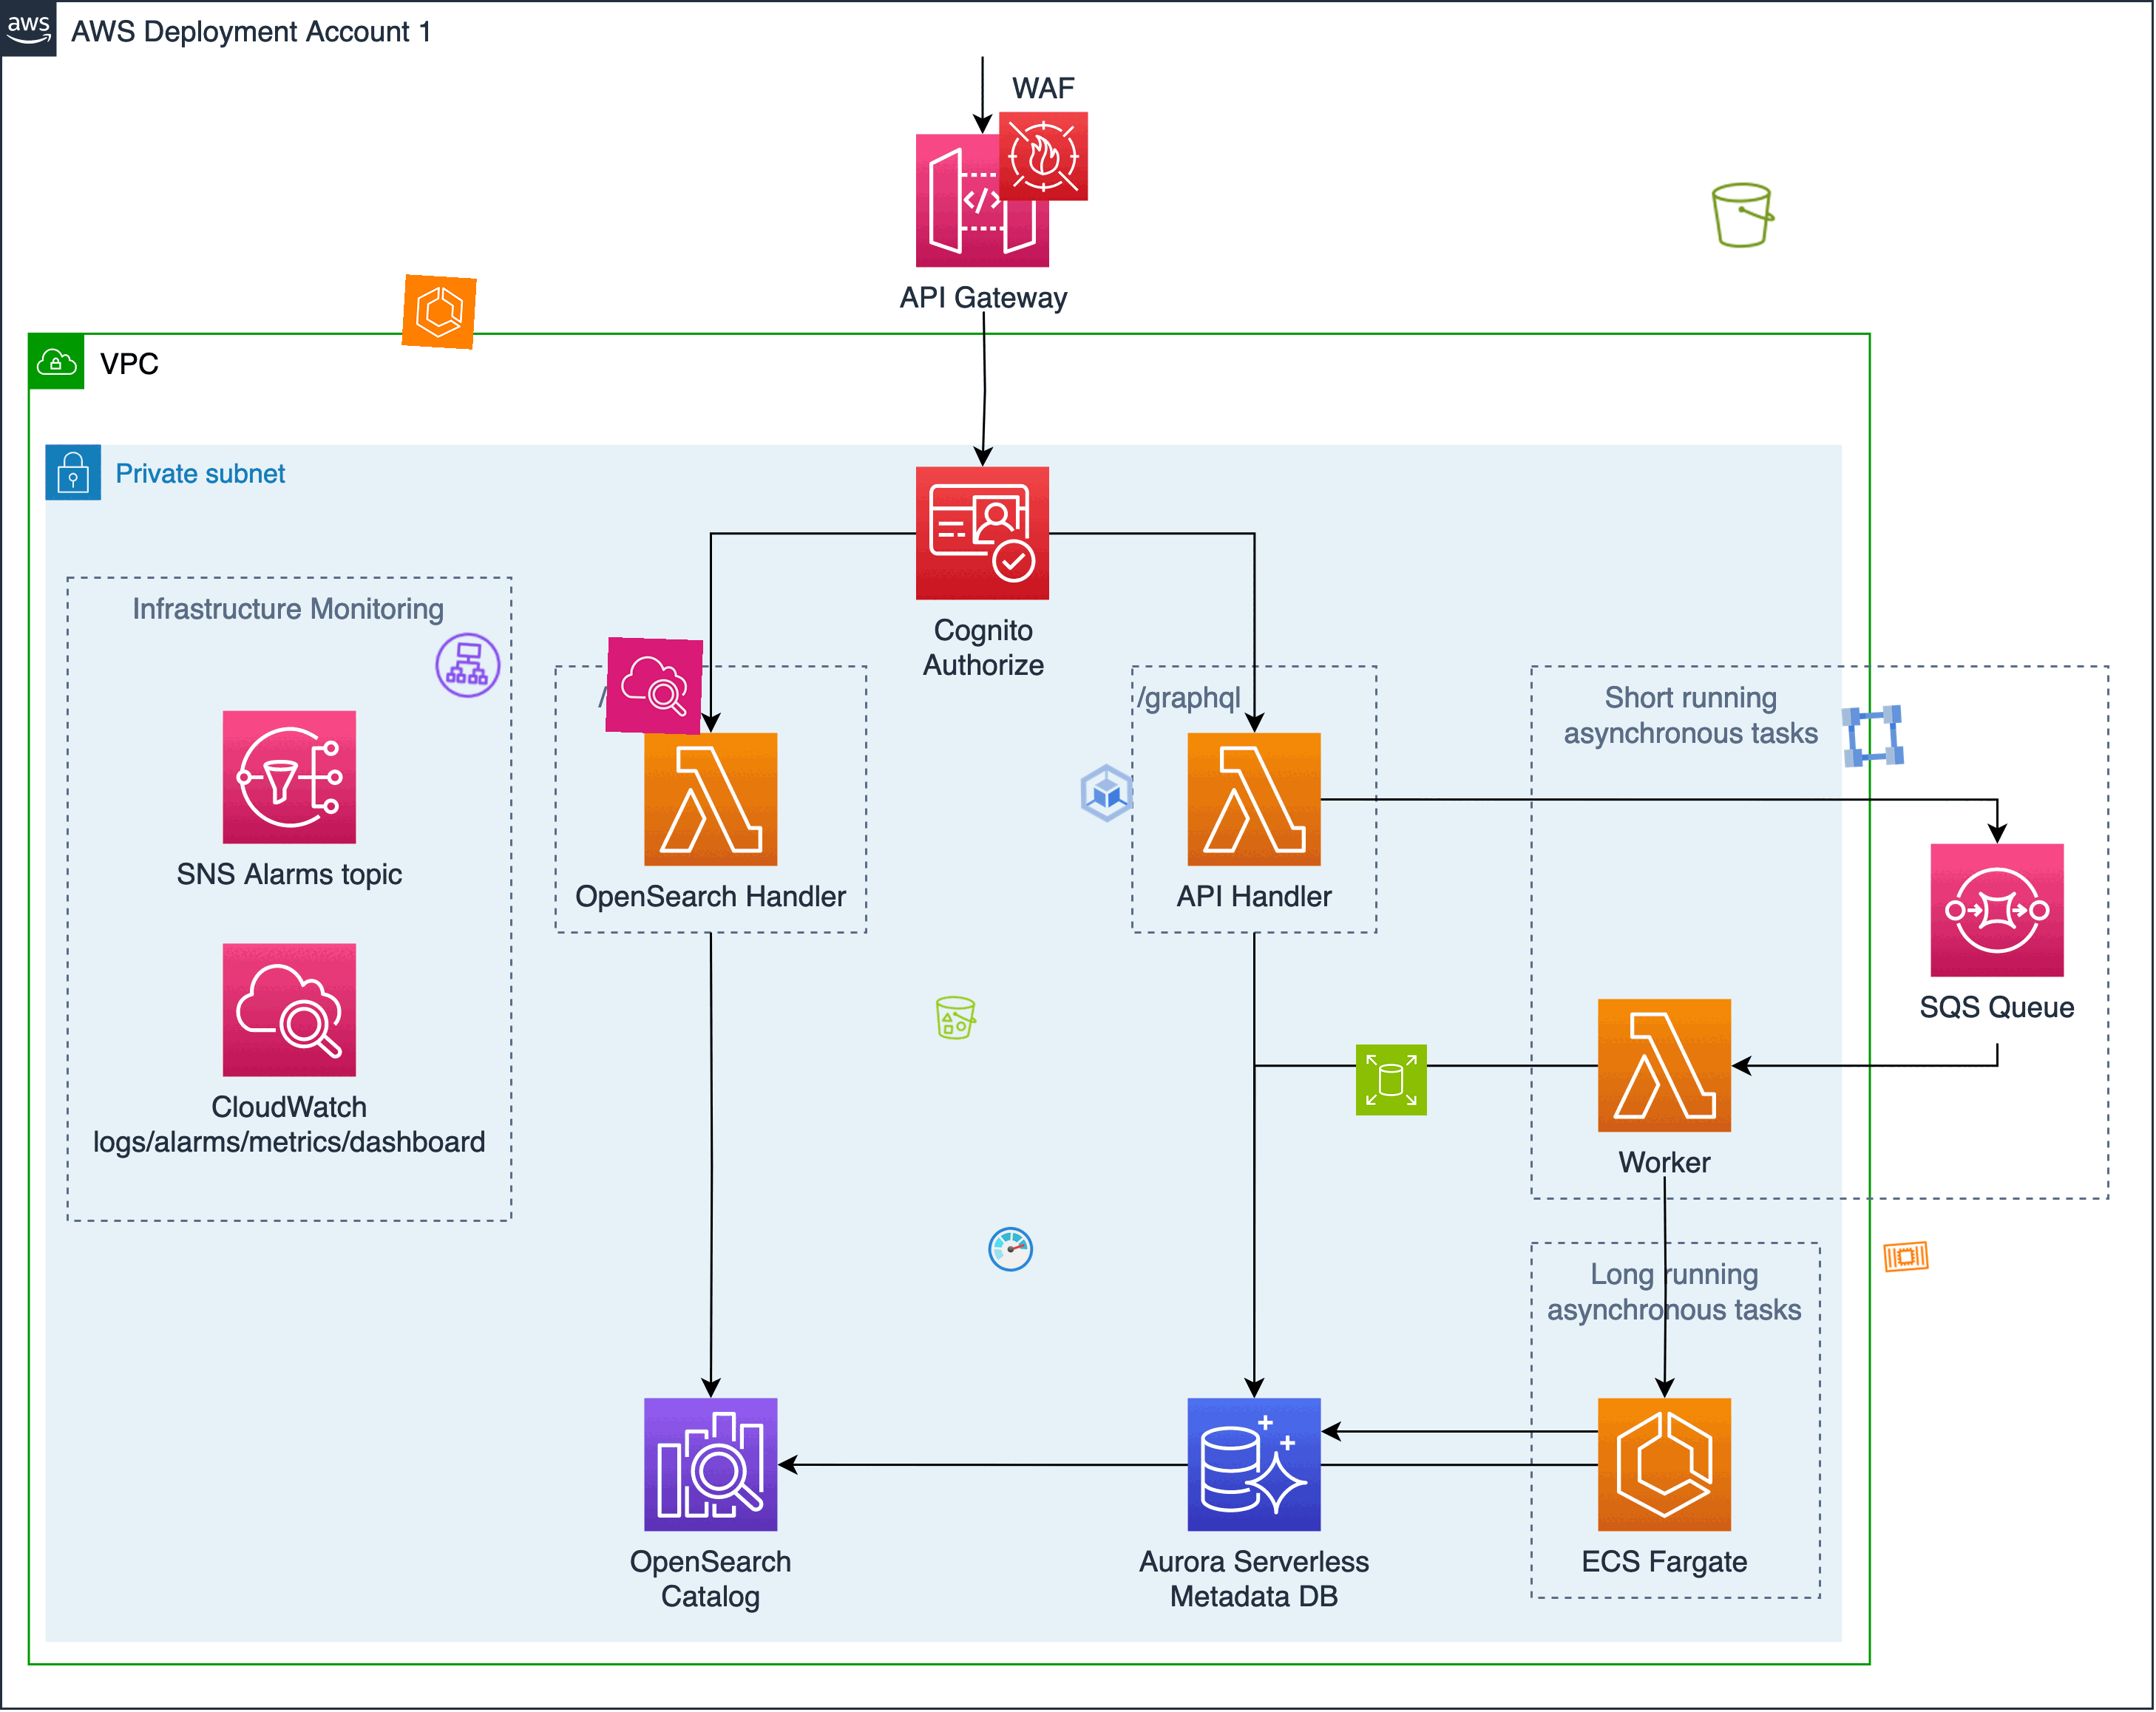aws_amazon_cloudwatch: (606, 637, 703, 736)
aws_amazon_elastic_block_store: (1355, 1044, 1428, 1116)
aws_amazon_elastic_container_service: (401, 275, 478, 350)
aws_elastic_container_service_container_2: (1880, 1231, 1932, 1282)
aws_elastic_load_balancing_application_load_balancer: (429, 626, 506, 703)
aws_simple_storage_service_bucket: (1708, 178, 1780, 252)
aws_simple_storage_service_bucket_with_objects: (931, 993, 982, 1042)
azure_monitor: (985, 1224, 1036, 1275)
gcp_google_kubernetes_engine: (1071, 757, 1143, 829)
gcp_virtual_private_cloud: (1836, 698, 1911, 775)
